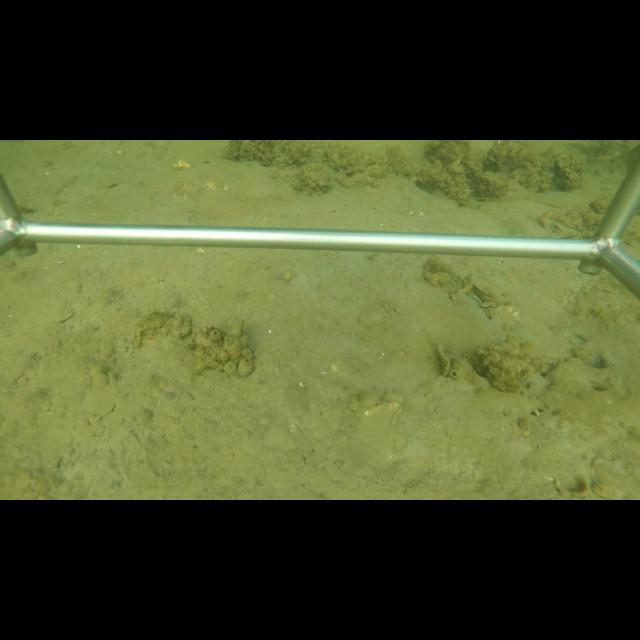Oyster-Open: (433, 343, 455, 381)
